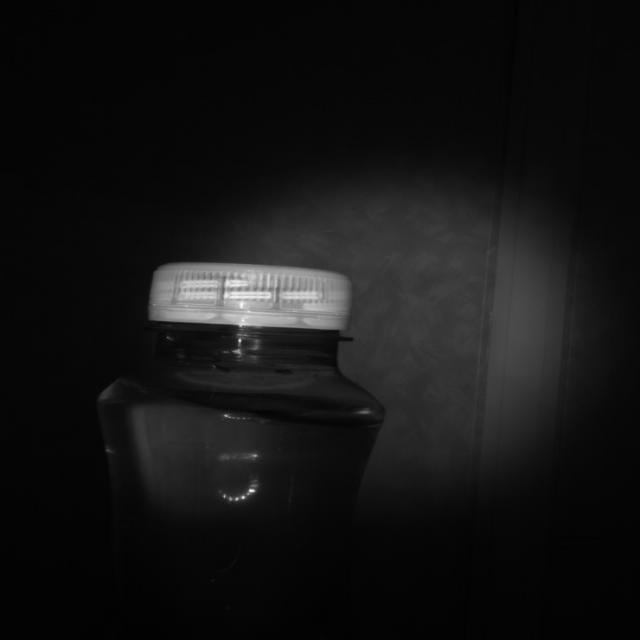Good: (148, 262, 357, 328)
